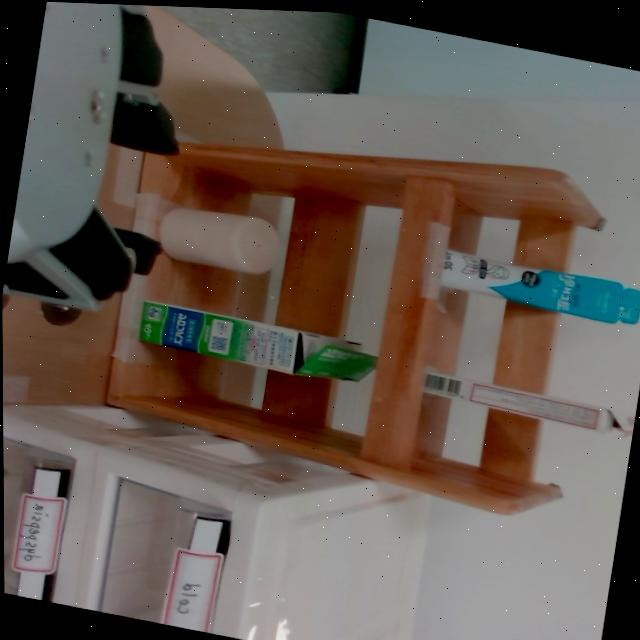bandage: (152, 194, 283, 275)
codaewon_syrup: (432, 247, 640, 326)
sore_patch: (134, 292, 368, 386)
tylenol: (413, 362, 631, 438)
